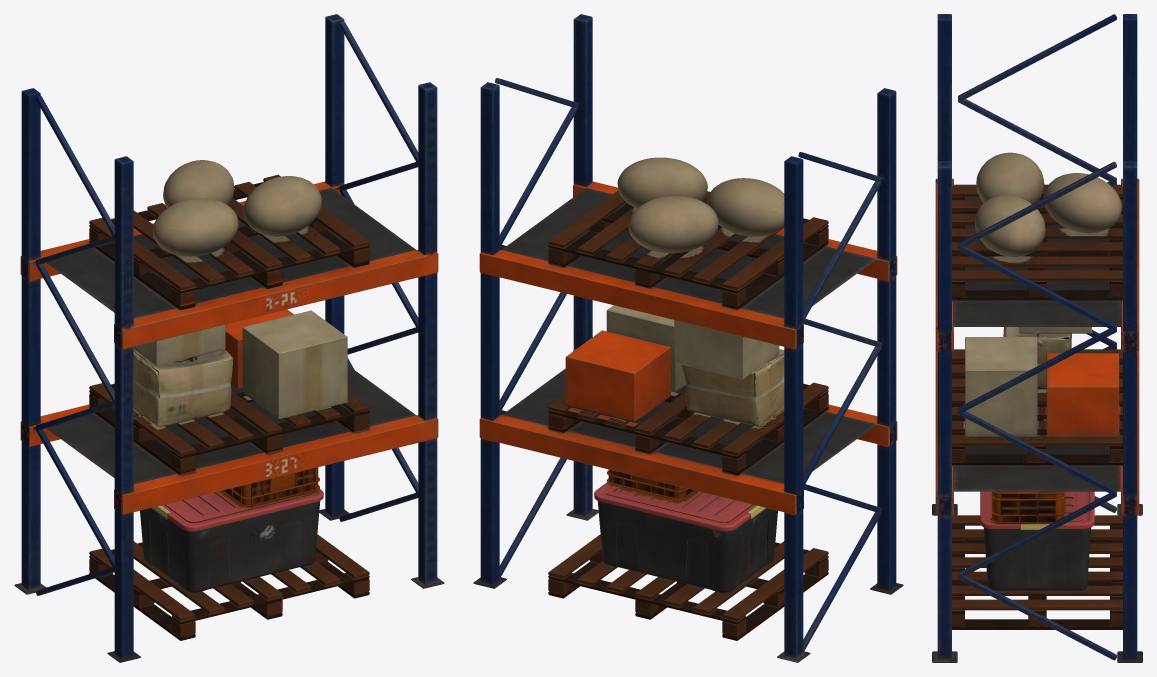
The model's file is storage_rack.glb.
3 views of the same model, side by side, from view 1: azimuth 30°, elevation 25°; view 2: azimuth 150°, elevation 25°; view 3: azimuth 270°, elevation 25° (orthographic).
Visible parts, largest first — view 1: storage_rack; view 2: storage_rack; view 3: storage_rack.
Part boxes in pixels (left/top/right/bottom): storage_rack: left=14, top=14, right=444, bottom=662; storage_rack: left=473, top=14, right=903, bottom=662; storage_rack: left=932, top=14, right=1142, bottom=662.
Size of the model in its own units: 2.06 by 3.02 by 1.16.
Materials: 2 (2 with a texture image).
